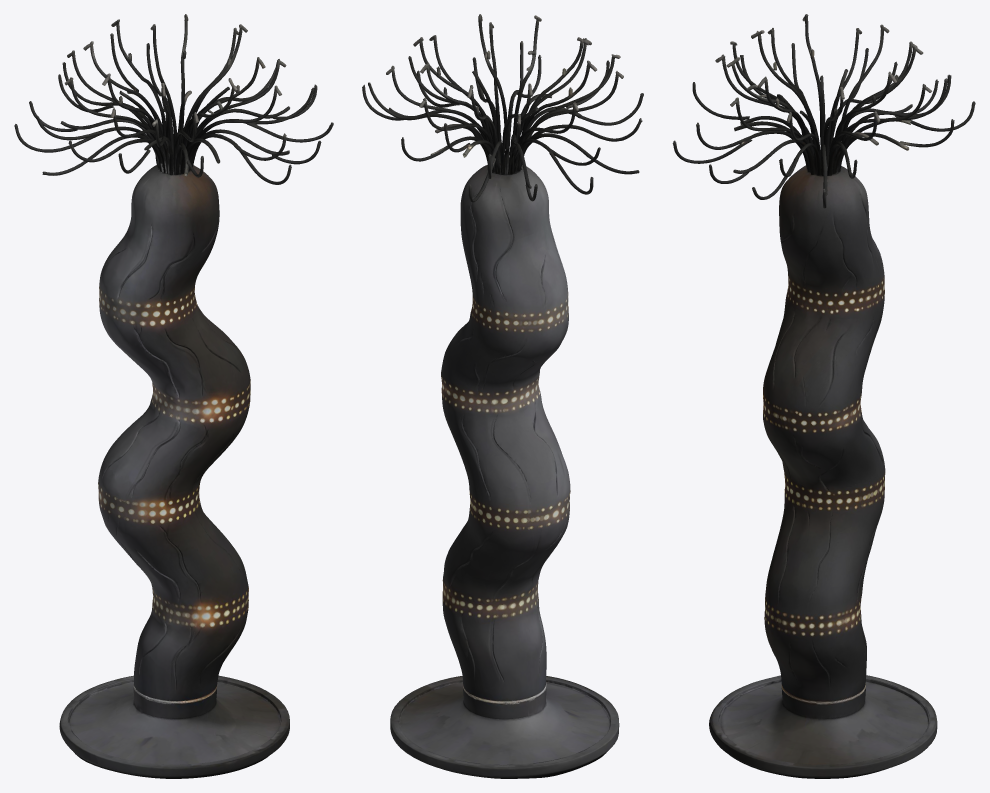
The model's file is H23-web.glb.
3 renders of one model, left to right at view 1: azimuth 30°, elevation 25°; view 2: azimuth 150°, elevation 25°; view 3: azimuth 270°, elevation 25°, orthographic.
Parts seen in each view (by area): view 1: tripo_node_0a179beb-b684-4fd4-afb1-58b3c8944b12; view 2: tripo_node_0a179beb-b684-4fd4-afb1-58b3c8944b12; view 3: tripo_node_0a179beb-b684-4fd4-afb1-58b3c8944b12.
Boxes of the visible parts, x1,y1,x2,y2 form: tripo_node_0a179beb-b684-4fd4-afb1-58b3c8944b12: (14,14,333,778); tripo_node_0a179beb-b684-4fd4-afb1-58b3c8944b12: (362,14,643,778); tripo_node_0a179beb-b684-4fd4-afb1-58b3c8944b12: (672,14,975,778).
Bounding box in the file's own units: 0.4206 × 1 × 0.4015.
Materials: 1 (1 with a texture image).
